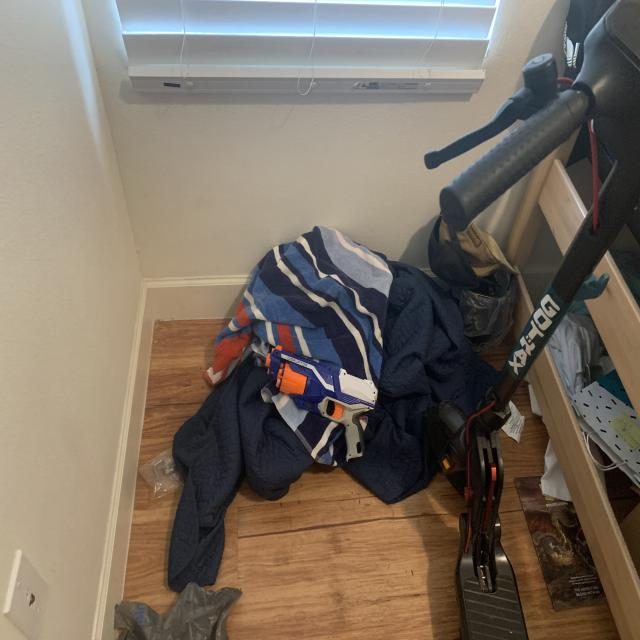nerf-maverik: (264, 323, 392, 473)
